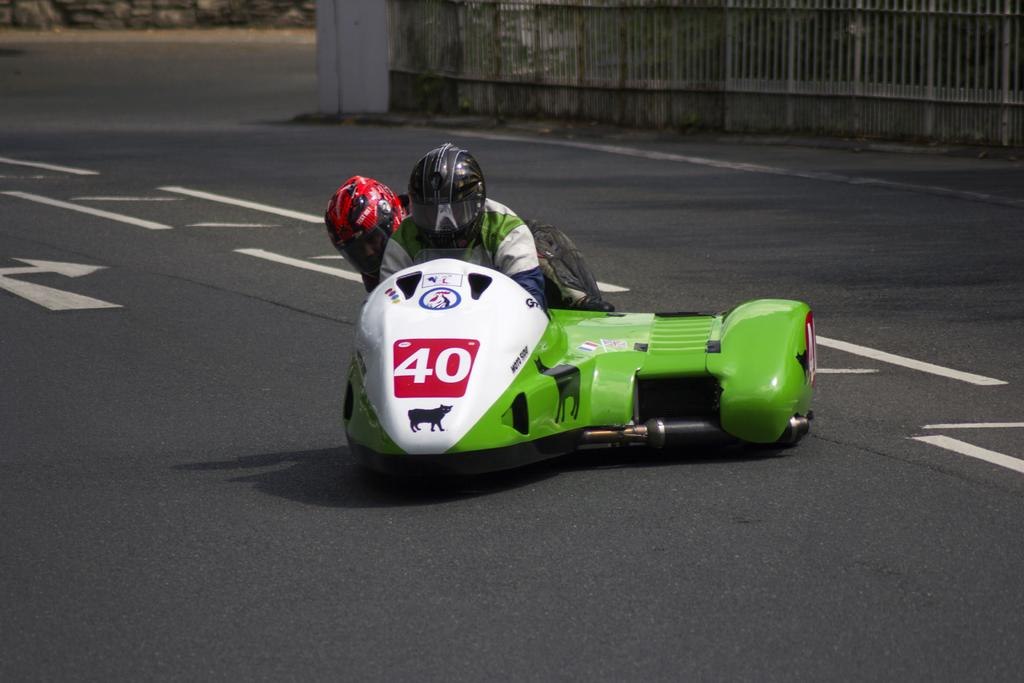helmet: (324, 175, 408, 280), (408, 145, 486, 255)
